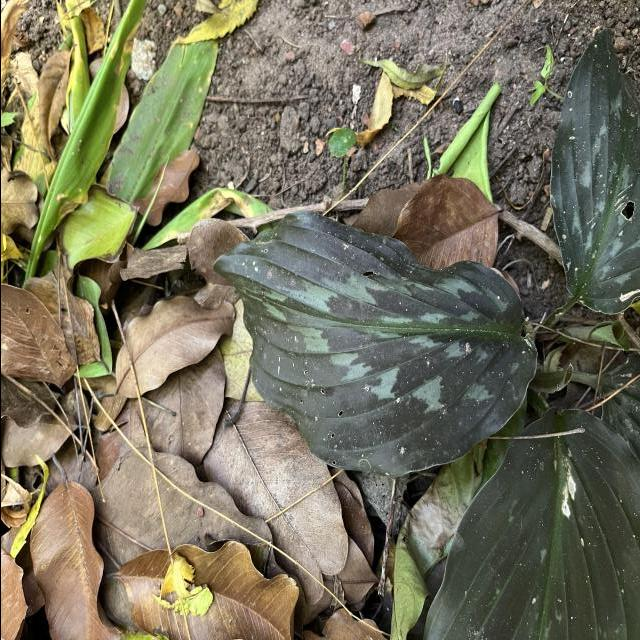Kaempferia galanga linn: (205, 206, 542, 482)
